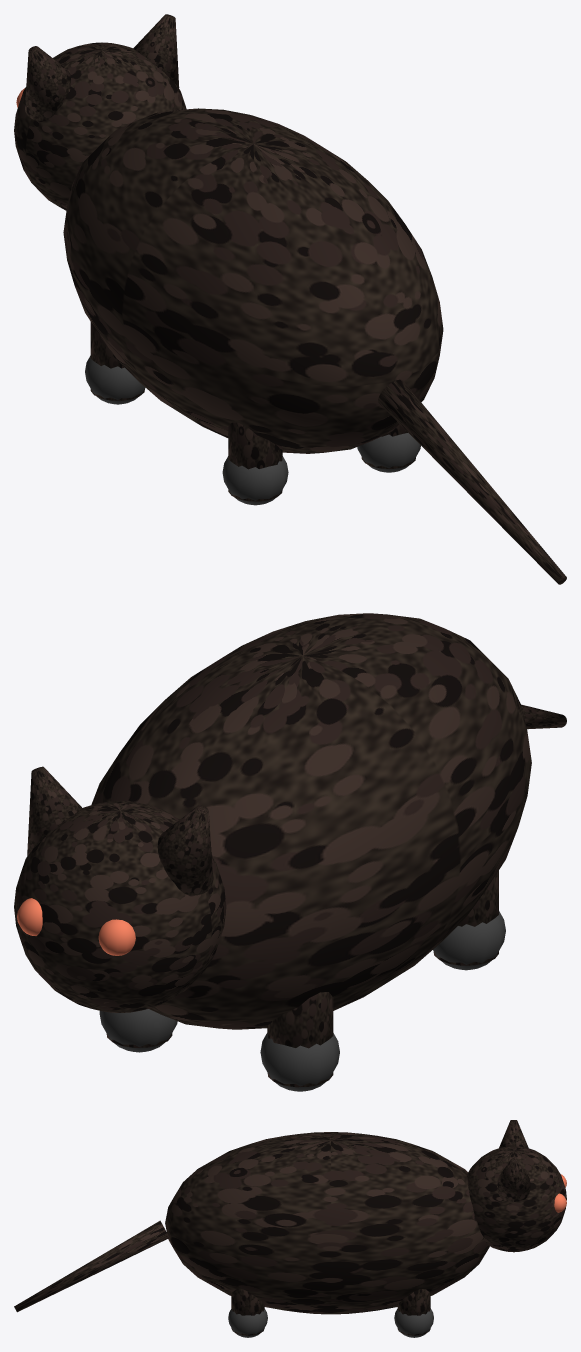
Rendered from rat-swarm.glb.
3 views of the same model, one above another, from view 1: azimuth 30°, elevation 25°; view 2: azimuth 150°, elevation 25°; view 3: azimuth 270°, elevation 25° (orthographic). The views are drawn at different scales.
Parts seen in each view (by area): view 1: Body, Head, Tail, Ear, Paw, Leg, Ear.001, Paw.001, Paw.002, Leg.001; view 2: Body, Head, Ear, Paw.001, Leg.001, Ear.001, Paw, Paw.003, Leg, Eye, Tail, Eye.001; view 3: Body, Head, Tail, Ear.001, Paw.002, Paw.003, Leg.002, Leg.003, Ear.
Part boxes in pixels (<box>): Body: <box>63,108,443,453</box>; Head: <box>14,42,186,210</box>; Tail: <box>378,379,566,584</box>; Ear: <box>25,46,70,121</box>; Paw: <box>222,456,288,505</box>; Leg: <box>228,422,282,501</box>; Ear.001: <box>133,14,179,87</box>; Paw.001: <box>85,355,145,404</box>; Paw.002: <box>357,433,420,472</box>; Leg.001: <box>90,322,144,400</box>; Body: <box>91,613,531,1029</box>; Head: <box>14,801,226,1012</box>; Ear: <box>157,805,213,895</box>; Paw.001: <box>260,1032,339,1091</box>; Leg.001: <box>267,992,333,1087</box>; Ear.001: <box>27,766,82,855</box>; Paw: <box>433,911,505,970</box>; Paw.003: <box>99,1009,177,1052</box>; Leg: <box>433,870,498,965</box>; Eye: <box>98,919,135,955</box>; Tail: <box>521,704,566,729</box>; Eye.001: <box>17,898,42,935</box>; Body: <box>165,1132,489,1314</box>; Head: <box>467,1146,566,1252</box>; Tail: <box>14,1220,168,1312</box>; Ear.001: <box>497,1158,530,1201</box>; Paw.002: <box>228,1308,267,1337</box>; Paw.003: <box>394,1308,433,1337</box>; Leg.002: <box>231,1289,264,1335</box>; Leg.003: <box>397,1289,430,1335</box>; Ear: <box>499,1120,528,1147</box>.
Bounding box in the file's own units: 0.3276 × 0.3509 × 0.9914.
3 materials, 1 textured.
